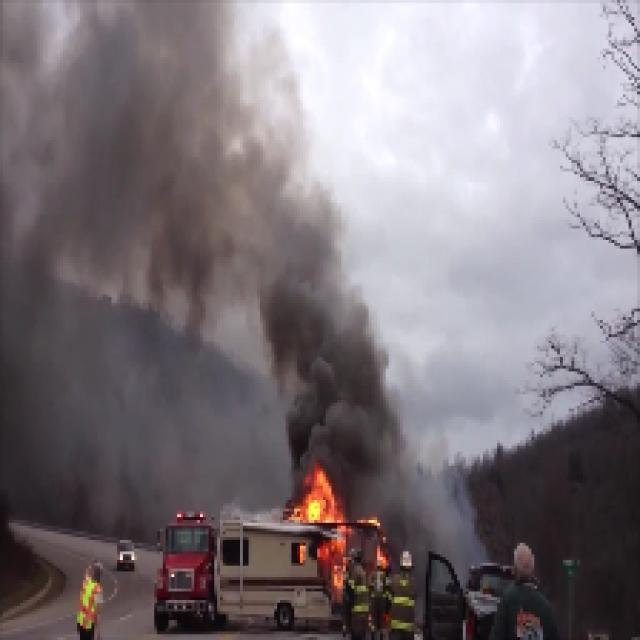smoke: (6, 2, 284, 328), (289, 224, 399, 466)
